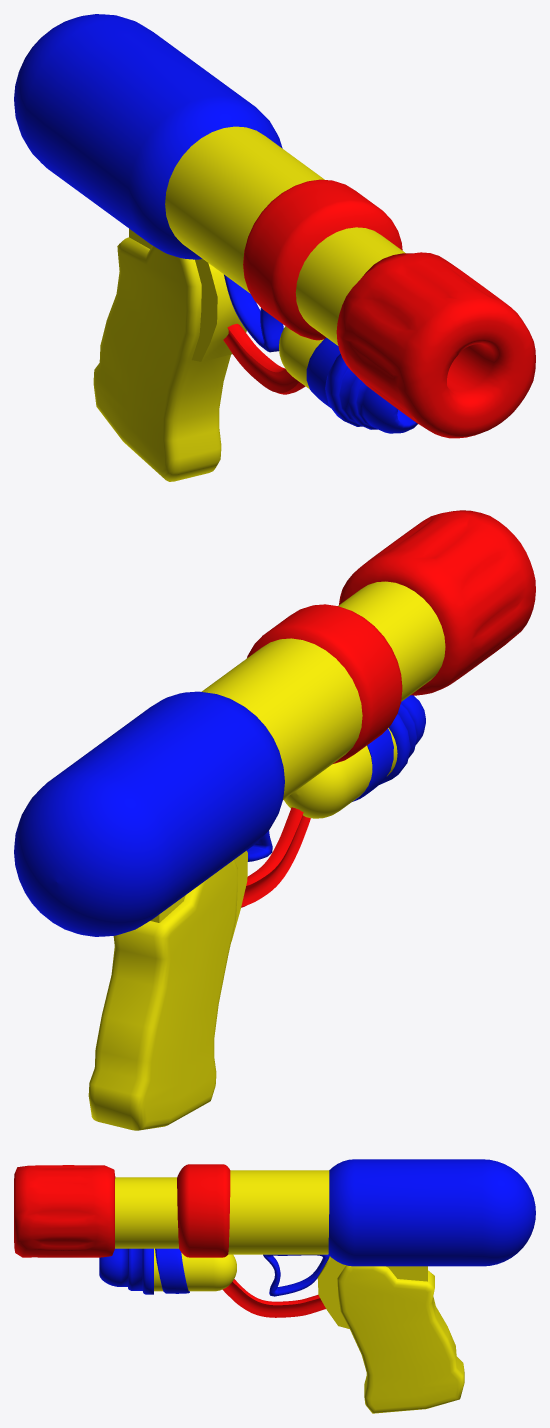
File: Gun.fbx
3 renders of one model, top to bottom at view 1: azimuth 30°, elevation 25°; view 2: azimuth 150°, elevation 25°; view 3: azimuth 270°, elevation 25°, orthographic. The views are drawn at different scales.
Visible parts, largest first — view 1: Silah; view 2: Silah; view 3: Silah.
Part boxes in pixels (left/top/right/bottom): Silah: left=14, top=14, right=535, bottom=481; Silah: left=14, top=510, right=535, bottom=1130; Silah: left=14, top=1159, right=535, bottom=1413.
Size of the model in its own units: 3.07 by 7.66 by 14.93.
